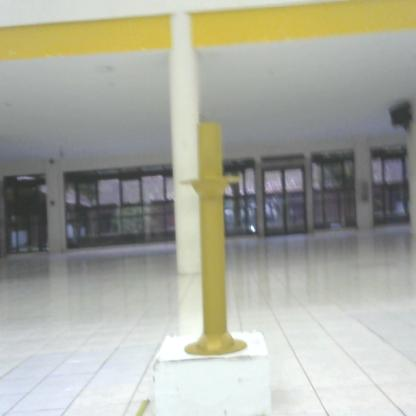pole: (173, 122, 254, 361)
